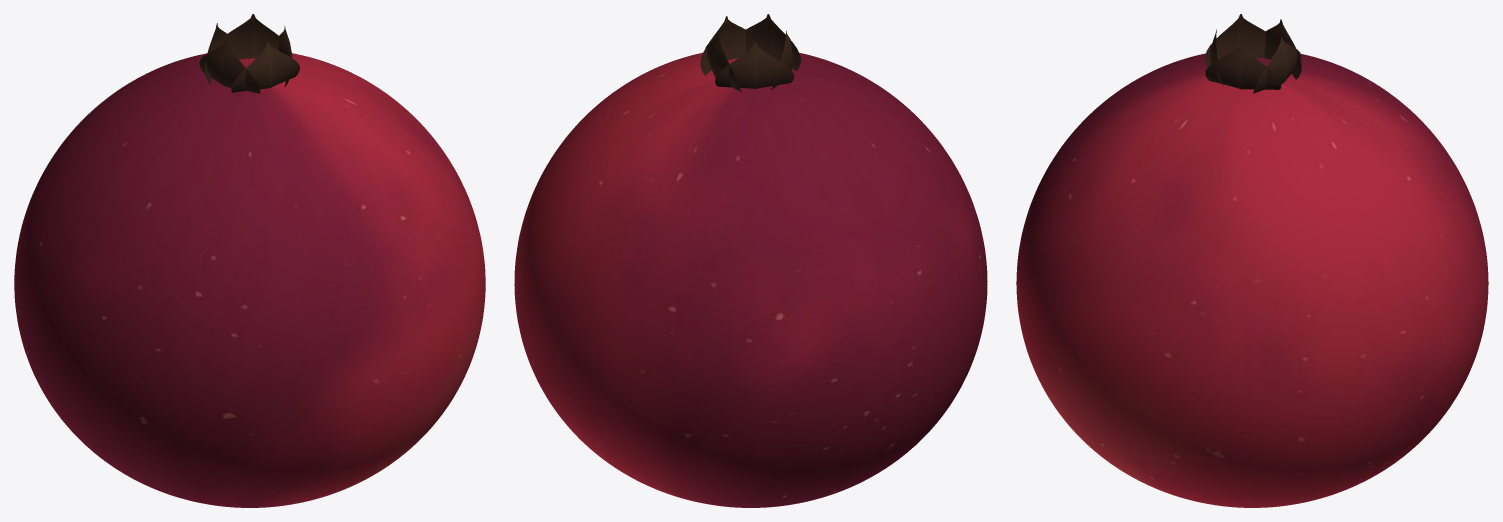
Rendered from goyavier.glb.
The picture shows the model from 3 angles, left to right: view 1: azimuth 30°, elevation 25°; view 2: azimuth 150°, elevation 25°; view 3: azimuth 270°, elevation 25°; orthographic projection.
Parts seen in each view (by area): view 1: entier_peau, moitie_A_peau, moitie_B_peau, entier_extra1, entier_extra4, entier_extra2; view 2: entier_peau, moitie_B_peau, moitie_A_peau, entier_extra3, entier_extra1, entier_extra0, entier_extra4; view 3: entier_peau, moitie_A_peau, moitie_B_peau, entier_extra0, entier_extra2, entier_extra4, entier_extra3.
Part boxes in pixels (x1,y1,x2,y2): entier_peau: [14, 53, 485, 507]; moitie_A_peau: [49, 66, 485, 507]; moitie_B_peau: [14, 53, 374, 444]; entier_extra1: [231, 42, 299, 92]; entier_extra4: [227, 14, 292, 59]; entier_extra2: [199, 40, 260, 93]; entier_peau: [514, 53, 987, 507]; moitie_B_peau: [514, 64, 952, 507]; moitie_A_peau: [652, 53, 987, 440]; entier_extra3: [715, 42, 794, 88]; entier_extra1: [745, 14, 800, 70]; entier_extra0: [700, 16, 745, 75]; entier_extra4: [705, 34, 741, 92]; entier_peau: [1016, 54, 1488, 507]; moitie_A_peau: [1016, 53, 1250, 507]; moitie_B_peau: [1254, 54, 1488, 507]; entier_extra0: [1205, 43, 1281, 89]; entier_extra2: [1205, 14, 1265, 66]; entier_extra4: [1253, 37, 1301, 93]; entier_extra3: [1264, 19, 1301, 79].
Bounding box in the file's own units: 0.031 × 0.033 × 0.031.
3 materials, 3 textured.
